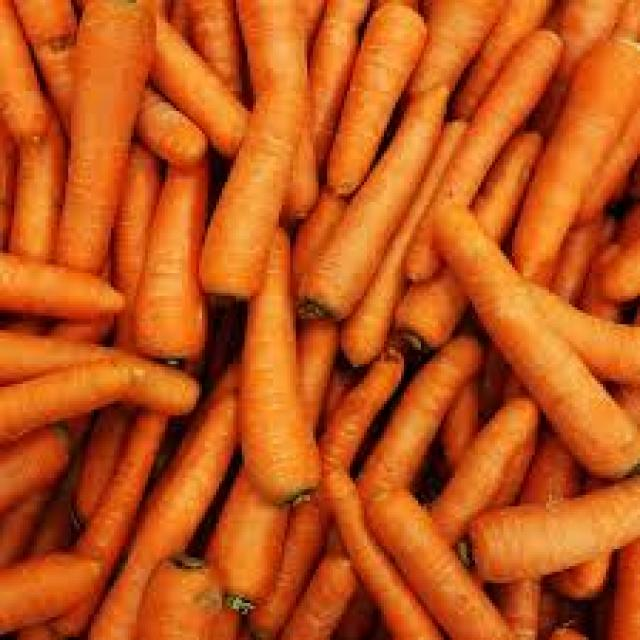Carrot: (63, 2, 160, 291)
